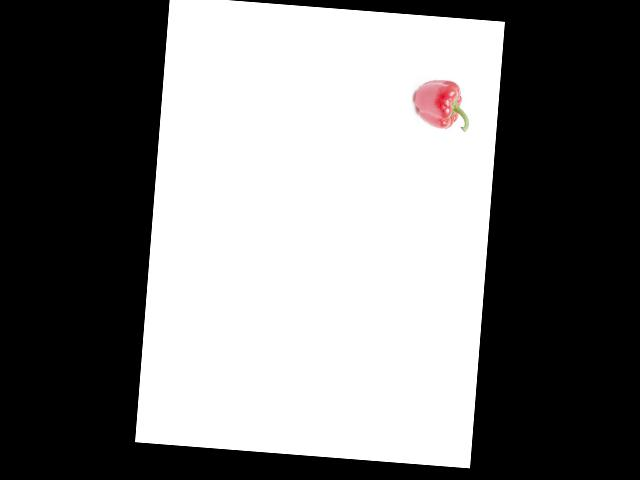bell_pepper: (410, 73, 473, 134)
